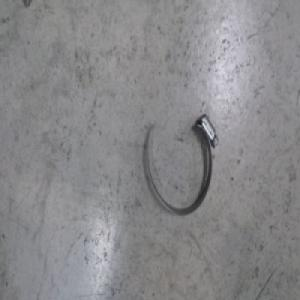AdjustableClamp: (142, 112, 218, 220)
